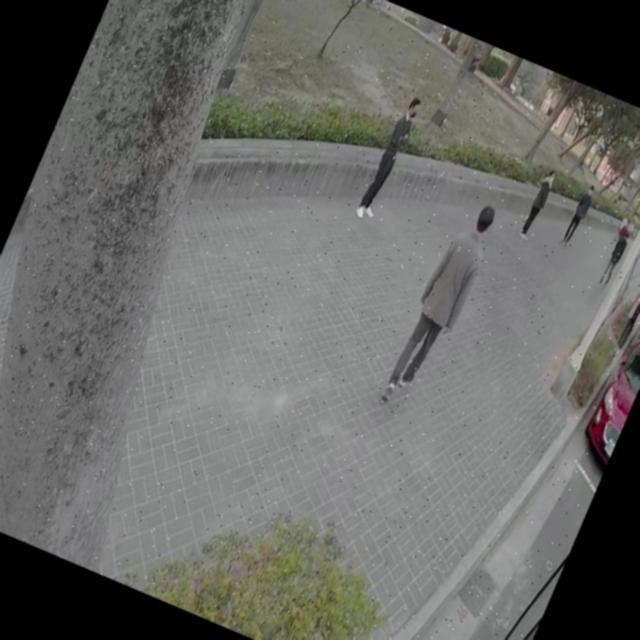person: (379, 194, 506, 414), (352, 94, 422, 224), (515, 163, 559, 242), (558, 180, 597, 245), (609, 275, 640, 356), (598, 228, 630, 285)
